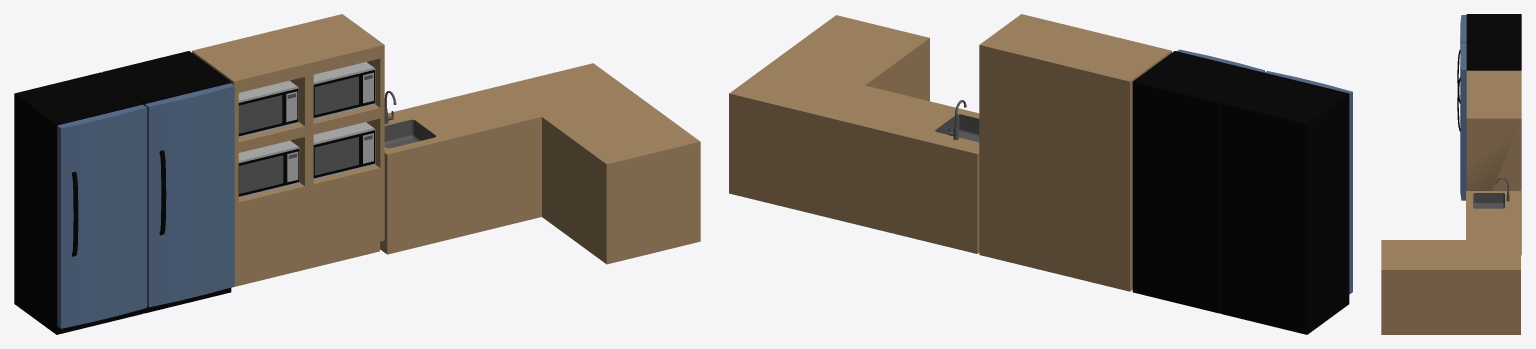
File: cuisine.fbx
The picture shows the model from 3 angles, left to right: view 1: azimuth 30°, elevation 25°; view 2: azimuth 150°, elevation 25°; view 3: azimuth 270°, elevation 25°; orthographic projection. The views are drawn at different scales.
Parts seen in each view (by area): view 1: pCube2, fridge_02, meubles_pCube4, fridge_01, microwave_03, microwave_02, microwave_01, microwave_04; view 2: pCube2, meubles_pCube4, fridge_02, fridge_01; view 3: pCube2, meubles_pCube4, fridge_01, fridge_02.
Part boxes in pixels (left/top/right/bottom): pCube2: left=380, top=63, right=700, bottom=264; fridge_02: left=14, top=72, right=146, bottom=334; meubles_pCube4: left=192, top=14, right=384, bottom=287; fridge_01: left=102, top=51, right=234, bottom=313; microwave_03: left=313, top=62, right=375, bottom=119; microwave_02: left=313, top=122, right=375, bottom=179; microwave_01: left=238, top=140, right=299, bottom=198; microwave_04: left=238, top=80, right=298, bottom=138; pCube2: left=729, top=15, right=979, bottom=253; meubles_pCube4: left=979, top=14, right=1171, bottom=291; fridge_02: left=1220, top=71, right=1352, bottom=334; fridge_01: left=1132, top=49, right=1264, bottom=313; pCube2: left=1381, top=177, right=1520, bottom=334; meubles_pCube4: left=1466, top=70, right=1521, bottom=255; fridge_01: left=1457, top=42, right=1521, bottom=200; fridge_02: left=1457, top=14, right=1521, bottom=103.
Size of the model in its own units: 593 by 206 by 191.
